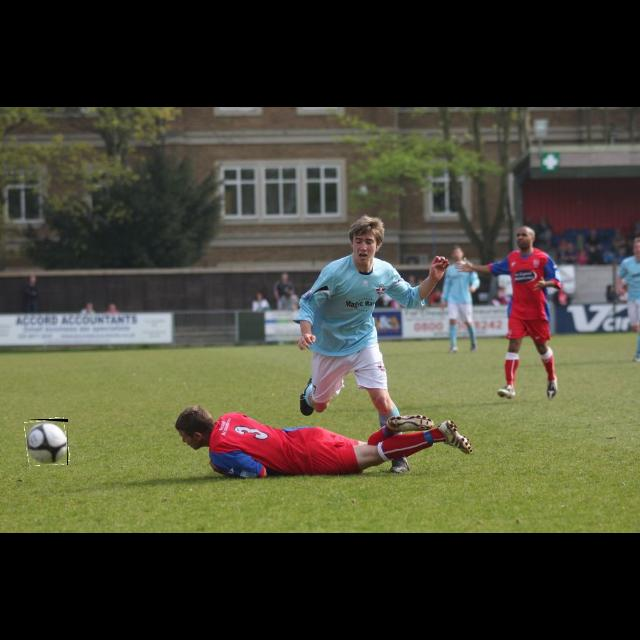Football: (26, 419, 68, 465)
